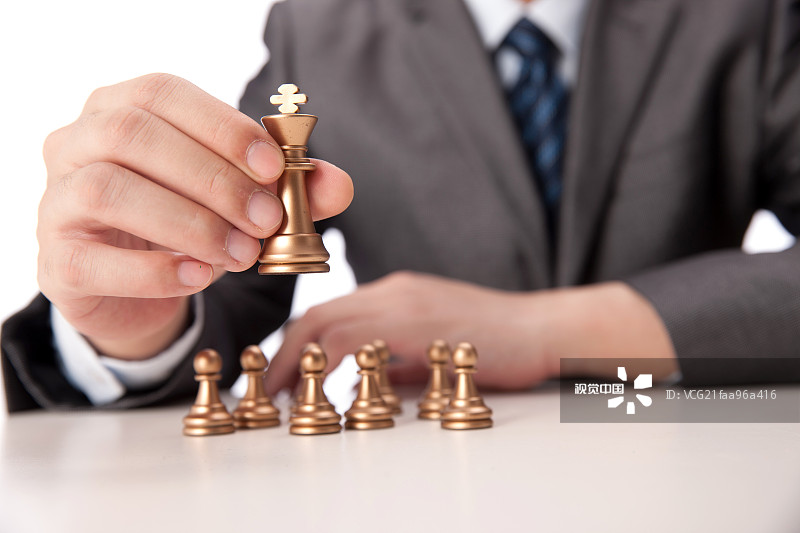no-phone: (21, 63, 357, 354)
